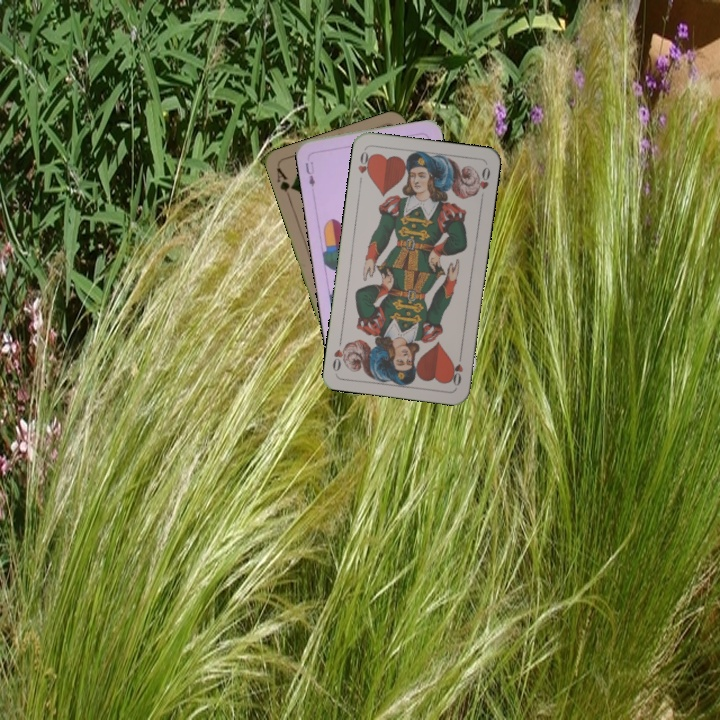EU: (301, 157, 318, 190)
GA: (273, 164, 297, 203)
HO: (354, 146, 375, 187), (447, 349, 466, 389)
